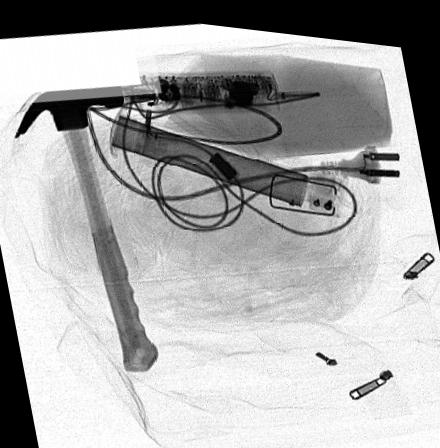Hammer: (13, 73, 159, 369)
